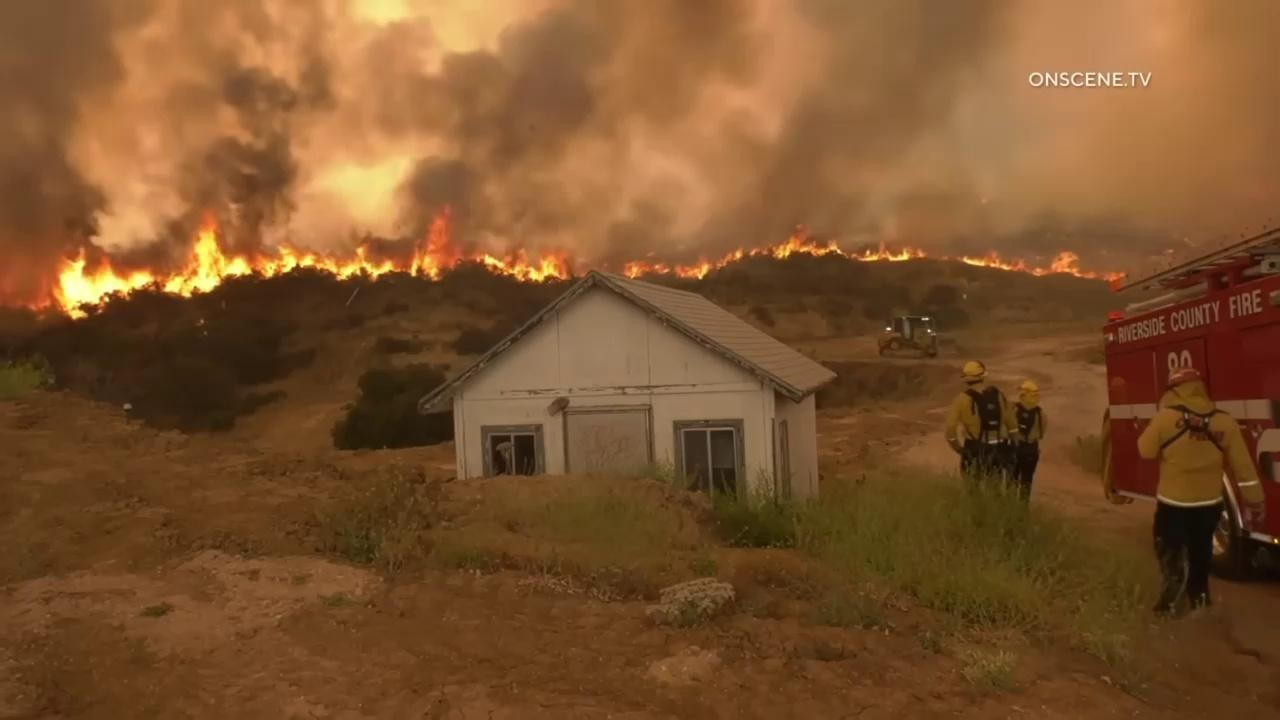fire: (45, 207, 574, 323), (620, 219, 928, 284), (958, 246, 1125, 280)
smoke: (0, 0, 1280, 319)
